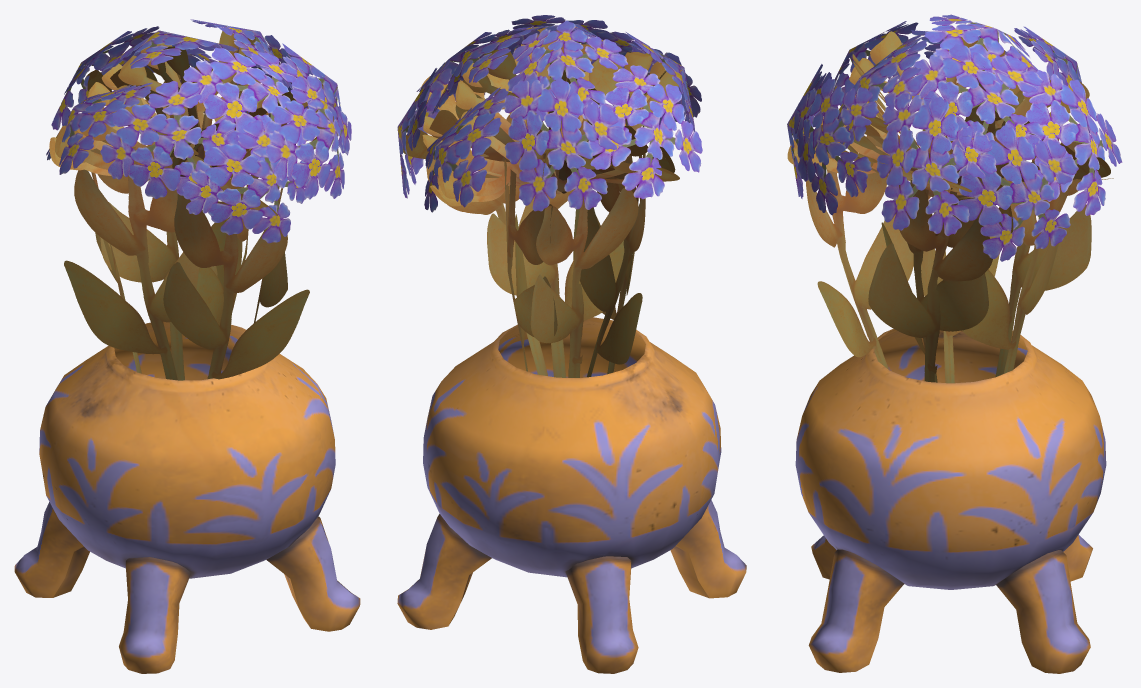
File: SM_Potion_Props_FlowerPot_02.fbx
The picture shows the model from 3 angles, left to right: view 1: azimuth 30°, elevation 25°; view 2: azimuth 150°, elevation 25°; view 3: azimuth 270°, elevation 25°; orthographic projection. The views are drawn at different scales.
Visible parts, largest first — view 1: SM_Potion_Props_FlowerPot_02_LOD0; view 2: SM_Potion_Props_FlowerPot_02_LOD0; view 3: SM_Potion_Props_FlowerPot_02_LOD0.
Boxes of the visible parts, <box> form: SM_Potion_Props_FlowerPot_02_LOD0: <box>14,19,360,673</box>; SM_Potion_Props_FlowerPot_02_LOD0: <box>397,15,746,673</box>; SM_Potion_Props_FlowerPot_02_LOD0: <box>787,14,1122,673</box>.
Size of what is drawn, in the model's own units: 23.96 by 46.03 by 24.41.
